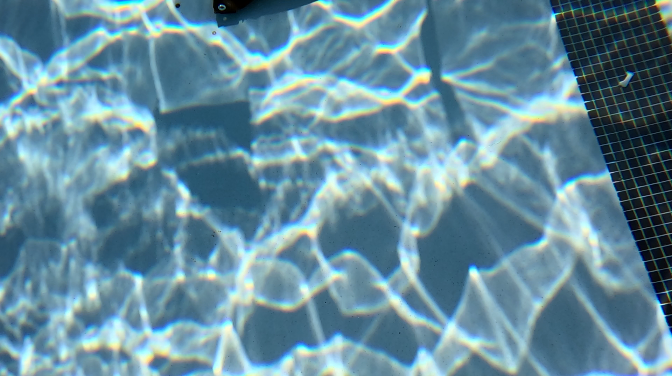sandbag: (211, 0, 258, 13)
